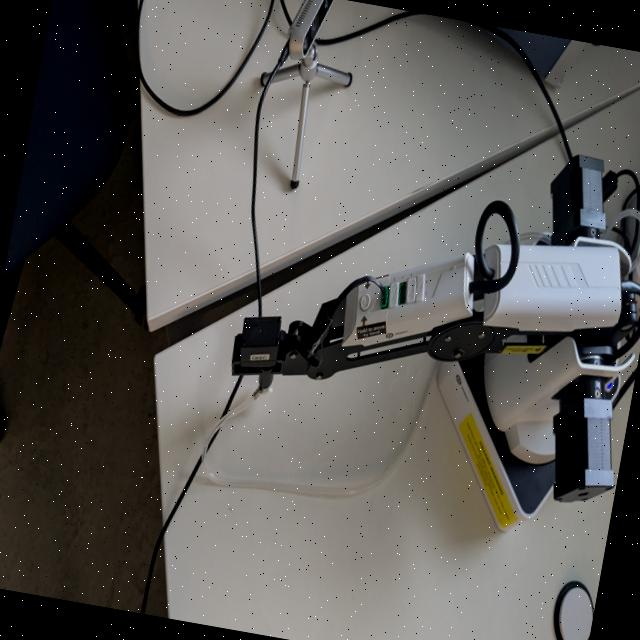Robot-end-effector-HF8z: (219, 304, 289, 424)
